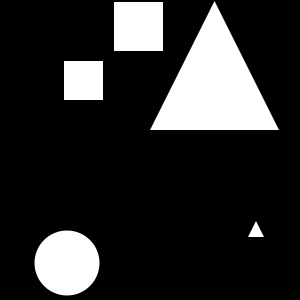circle: (114, 2, 163, 51), (64, 61, 103, 100)
rectangle: (34, 230, 100, 296)
triangle: (150, 1, 279, 130), (248, 221, 264, 237)
